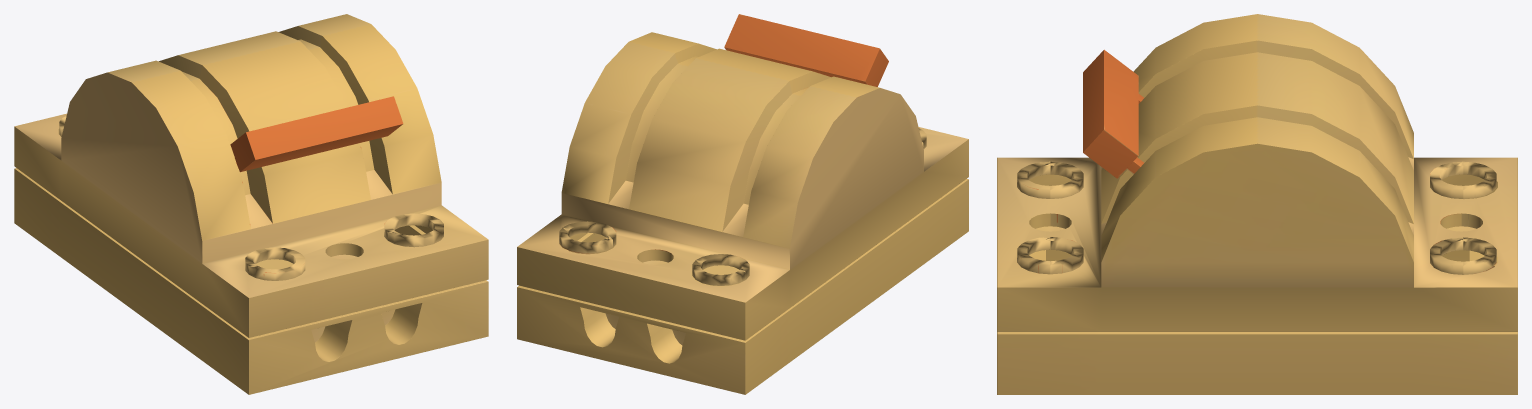
Rendered from BigSwitch.fbx.
3 renders of one model, left to right at view 1: azimuth 30°, elevation 25°; view 2: azimuth 150°, elevation 25°; view 3: azimuth 270°, elevation 25°, orthographic. The views are drawn at different scales.
Parts seen in each view (by area): view 1: Cube.007; view 2: Cube.007; view 3: Cube.007.
Boxes of the visible parts, x1,y1,x2,y2 form: Cube.007: (14, 14, 488, 394); Cube.007: (517, 14, 968, 394); Cube.007: (997, 14, 1517, 394).
Bounding box in the file's own units: 108 × 97.8 × 184.
